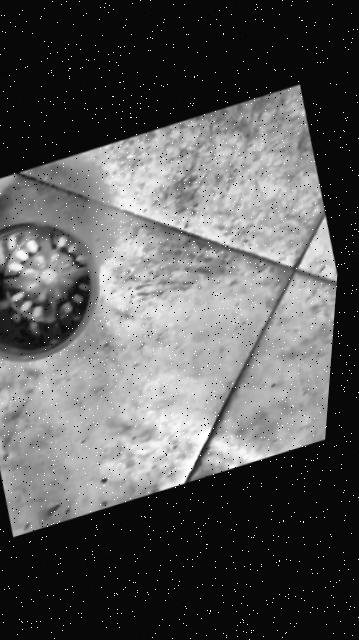pot: (0, 200, 117, 377)
